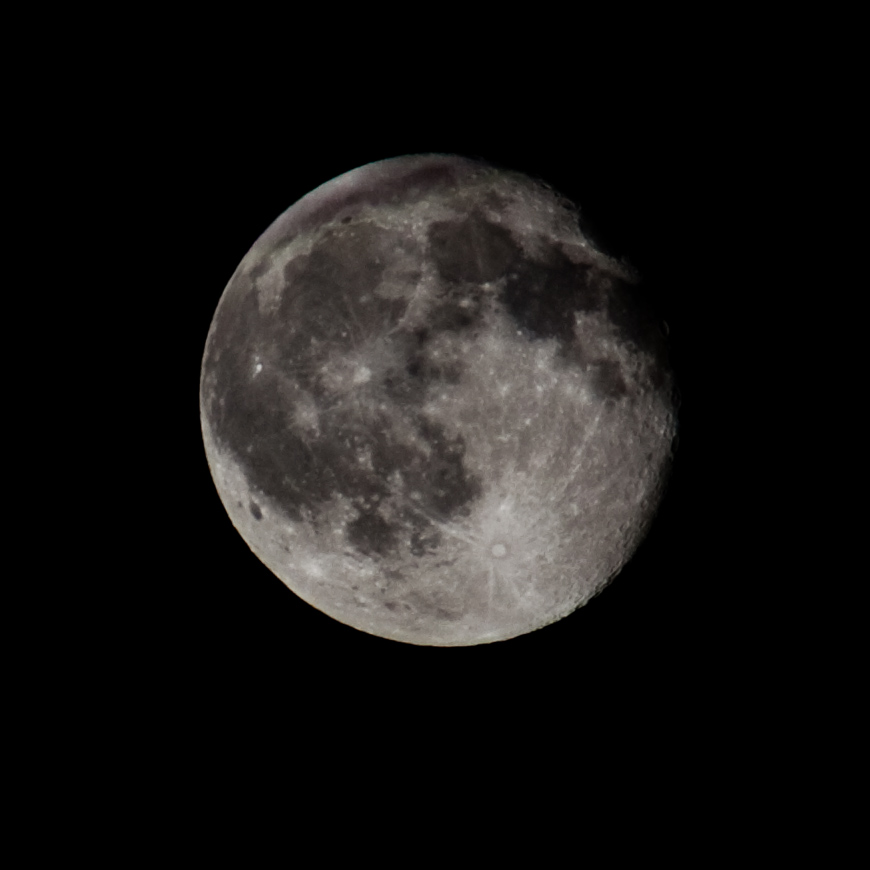crater: (464, 519, 524, 576), (239, 488, 283, 535), (346, 355, 381, 394), (285, 391, 318, 432), (243, 355, 273, 380)
